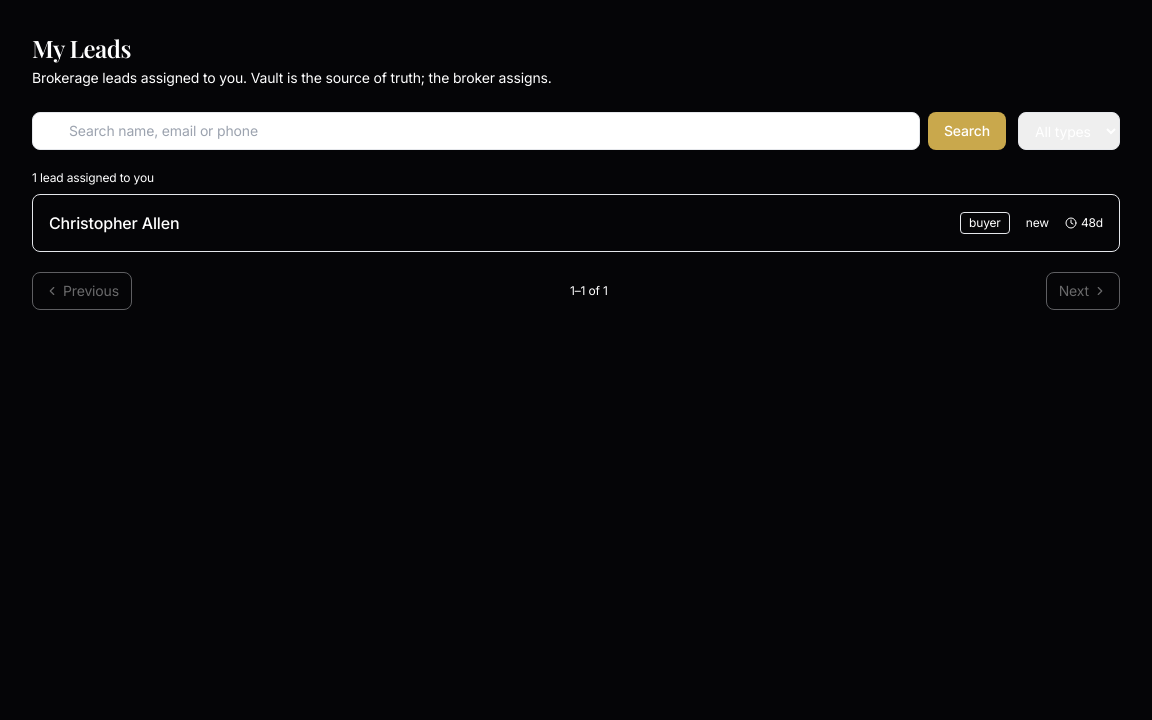
Scenario: [P81A-U] the agent opens My Leads › [P81A-U6] a lead with no follow-ups says so, rather than showing nothing
Click the text "Christopher Allen": (114, 223) [49,213,179,233]
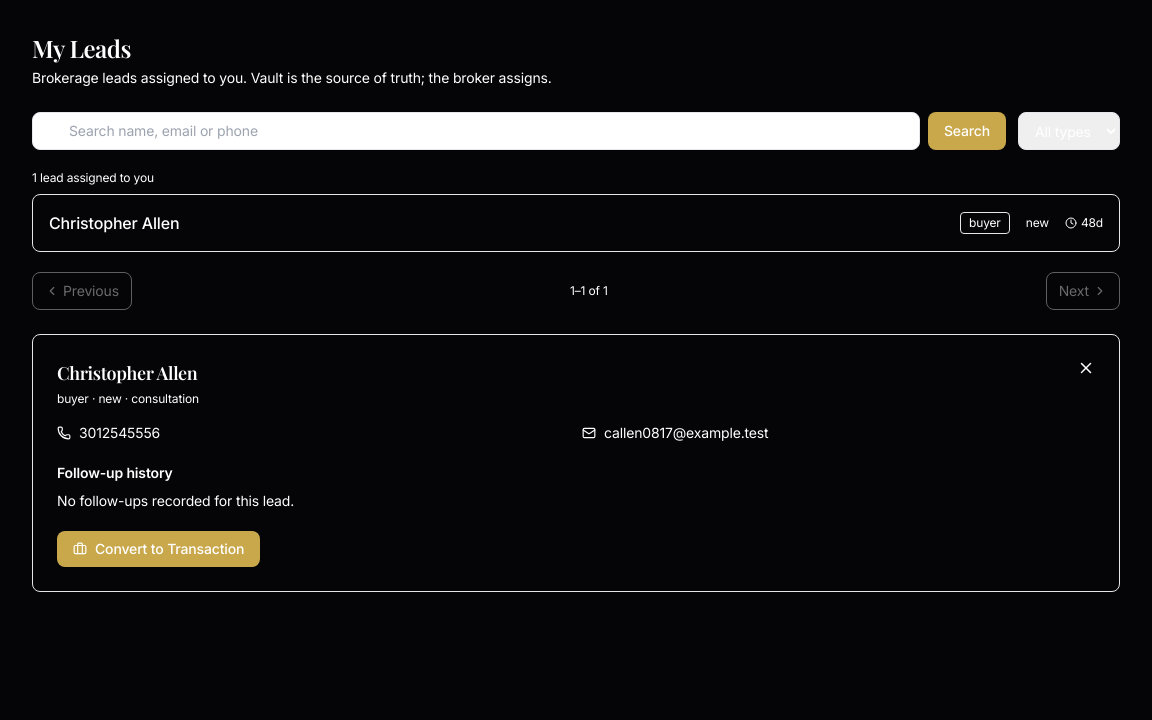
Now the text "No follow-ups recorded for this lead." is shown, box [57,492,294,509]
